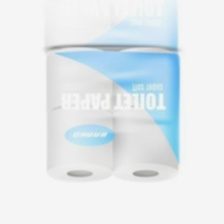tissue: (37, 39, 189, 192)
